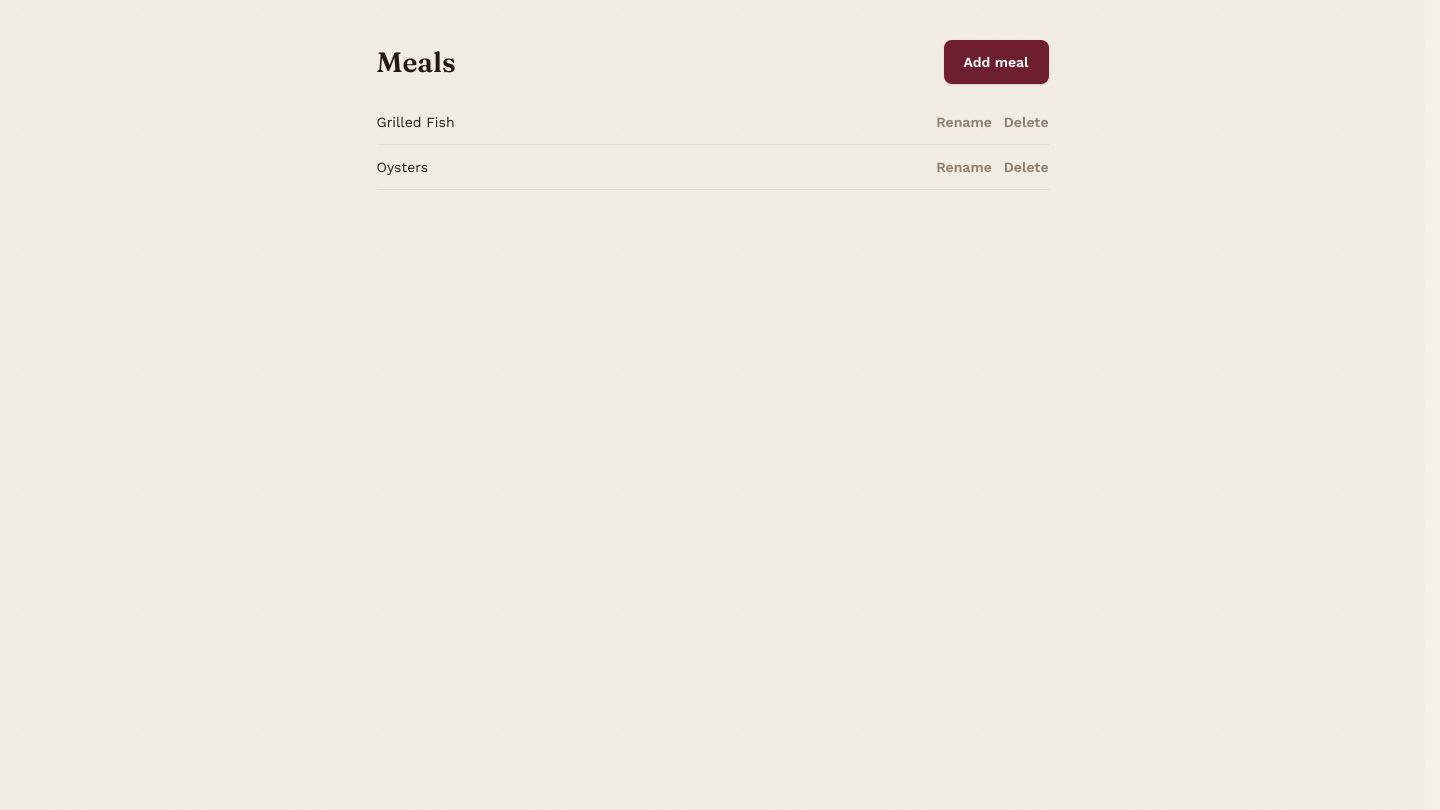
Scenario: MealListView › deletes the meal when the confirm dialog is confirmed
Click the button with test id "meal-delete-button".
click(1026, 167)  # box left=1004, top=157, right=1049, bottom=177
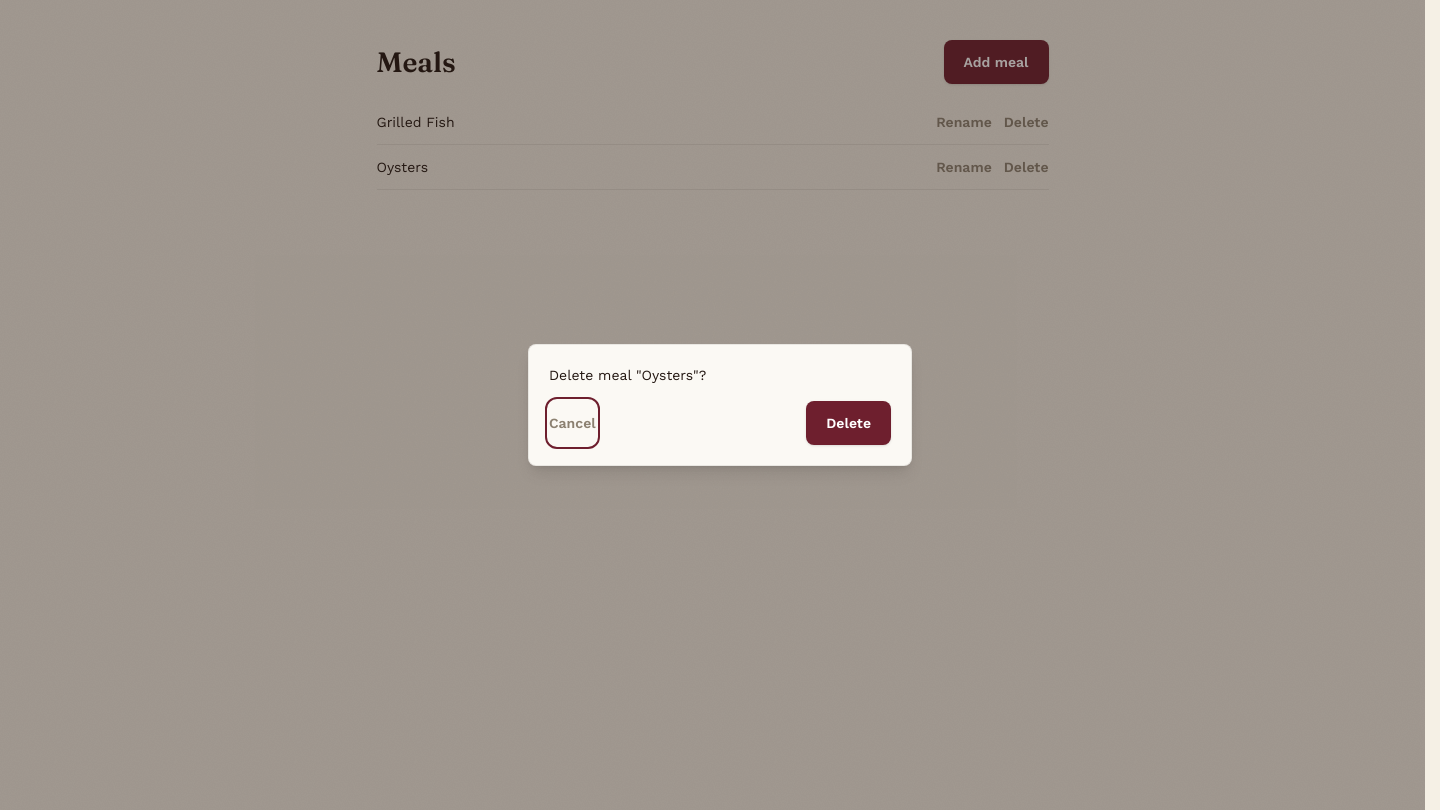
Click the button with test id "confirm-dialog-confirm".
click(849, 423)  # box left=806, top=401, right=891, bottom=445
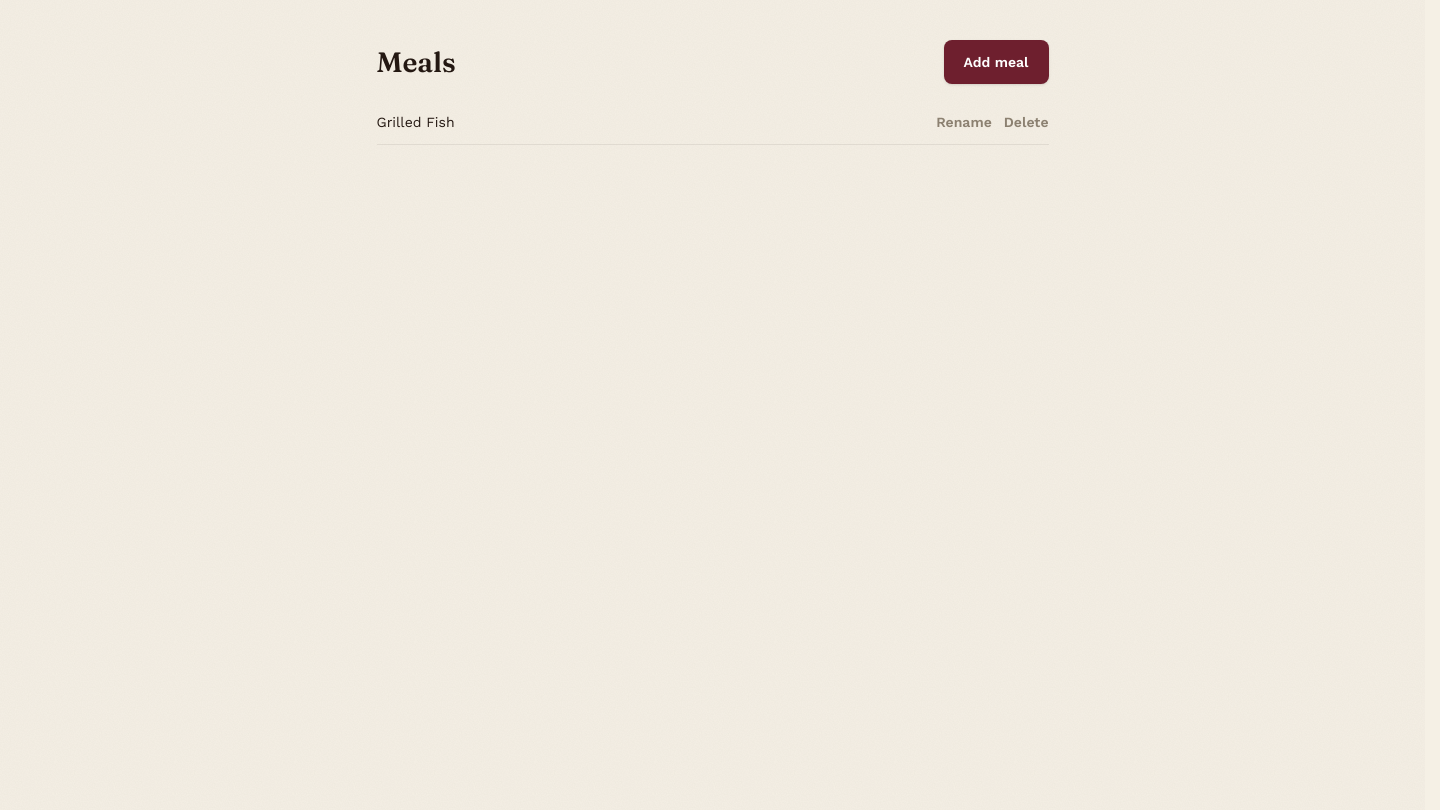
Expected: the text "Grilled Fish" is shown, left=376, top=112, right=455, bottom=132
Result: the number of list items with test id "meal-item" is 1 at left=376, top=100, right=1048, bottom=145
